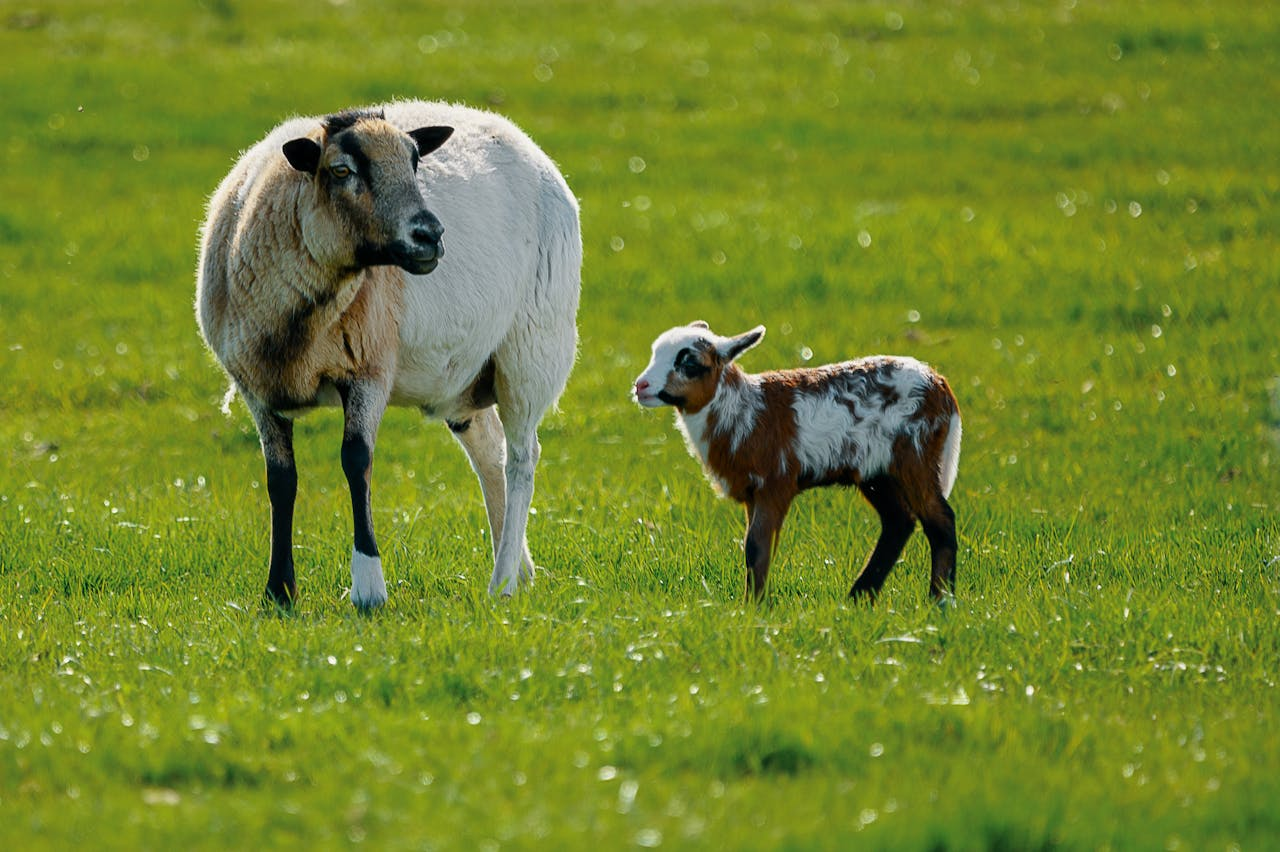sheep: (184, 54, 590, 617), (632, 288, 985, 613)
